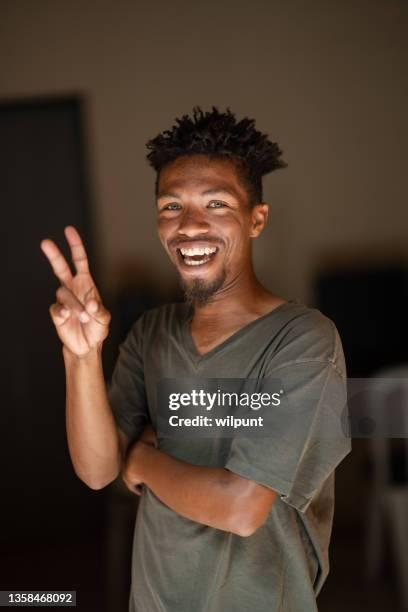peace_sign: (37, 217, 119, 358)
